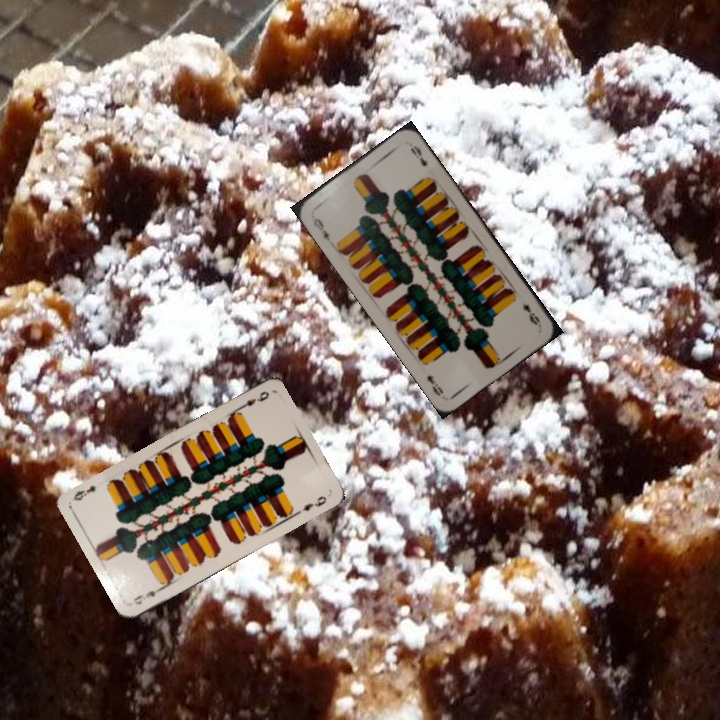E9: (234, 387, 272, 413), (129, 582, 166, 607), (309, 214, 335, 246), (518, 300, 543, 329)
